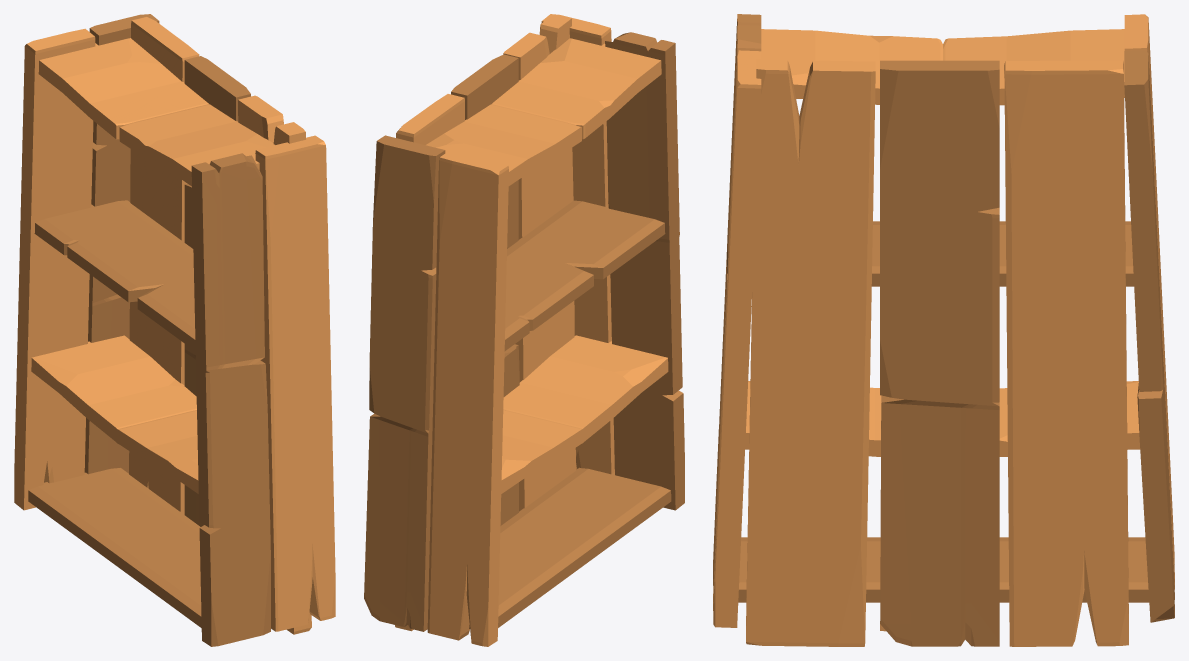
Rendered from Low Poly Wood Shelf With back.fbx.
The picture shows the model from 3 angles, left to right: view 1: azimuth 30°, elevation 25°; view 2: azimuth 150°, elevation 25°; view 3: azimuth 270°, elevation 25°; orthographic projection. The views are drawn at different scales.
Visible parts, largest first — view 1: Wood Shelf No Back; view 2: Wood Shelf No Back; view 3: Wood Shelf No Back.
Boxes of the visible parts, x1,y1,x2,y2 form: Wood Shelf No Back: [14, 14, 335, 646]; Wood Shelf No Back: [364, 14, 684, 646]; Wood Shelf No Back: [713, 14, 1174, 646].
Bounding box in the file's own units: 63.28 × 242 × 176.
